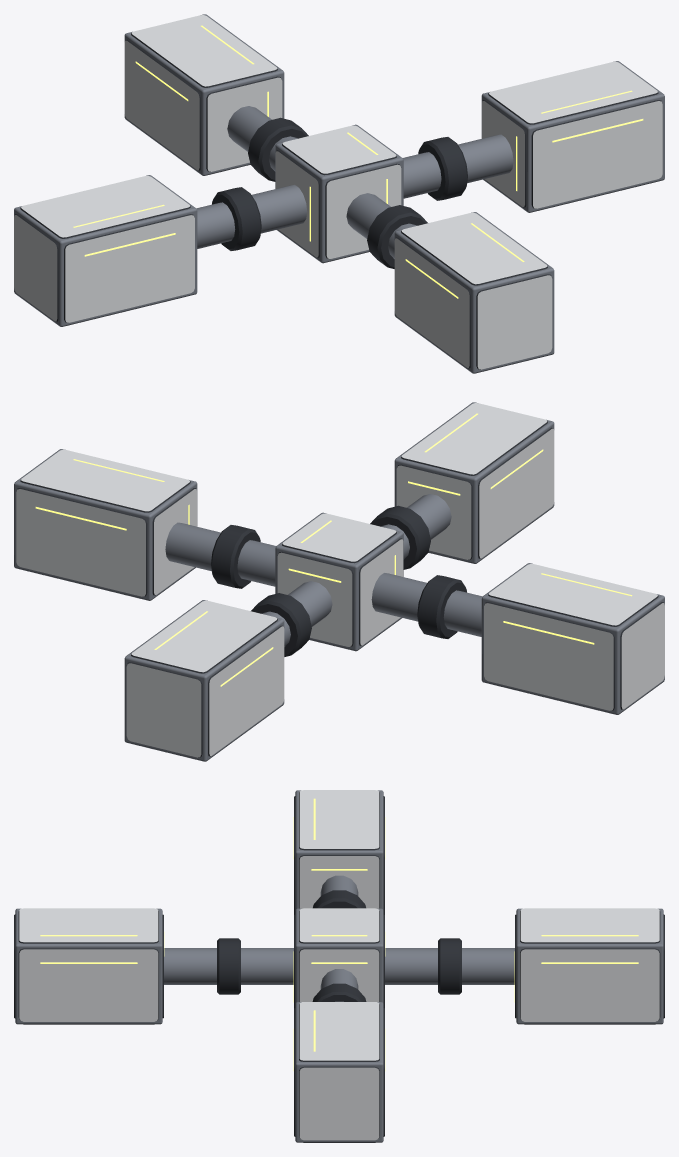
Rendered from R4C_ROD_PLUS.fbx.
The picture shows the model from 3 angles, top to bottom: view 1: azimuth 30°, elevation 25°; view 2: azimuth 150°, elevation 25°; view 3: azimuth 270°, elevation 25°; orthographic projection. The views are drawn at different scales.
Parts seen in each view (by area): view 1: R4C_ROD_PLUS; view 2: R4C_ROD_PLUS; view 3: R4C_ROD_PLUS.
Boxes of the visible parts, <box> form: R4C_ROD_PLUS: <box>14,14,664,373</box>; R4C_ROD_PLUS: <box>14,402,664,761</box>; R4C_ROD_PLUS: <box>14,790,664,1142</box>.
Bounding box in the file's own units: 1.62 × 0.2284 × 1.62.
